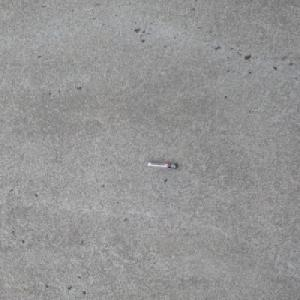Battery: (146, 162, 178, 168)
